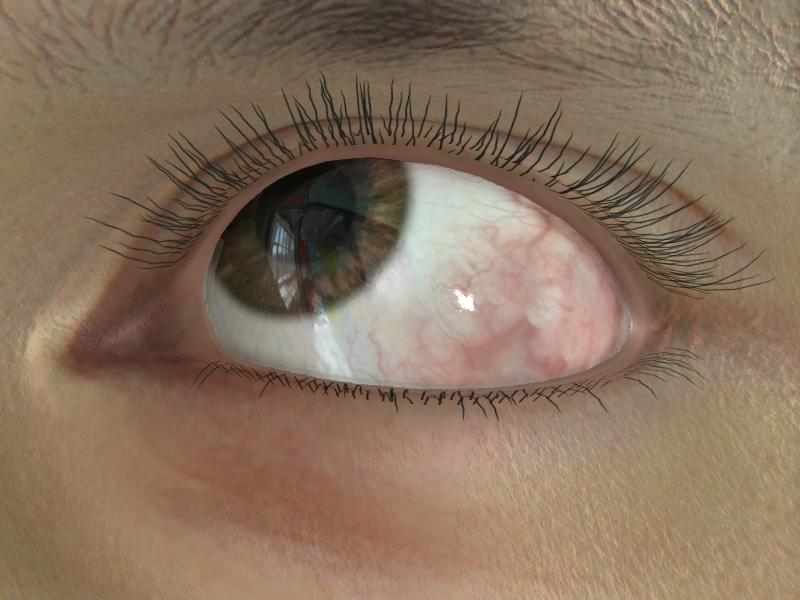eye: (214, 152, 414, 316)
